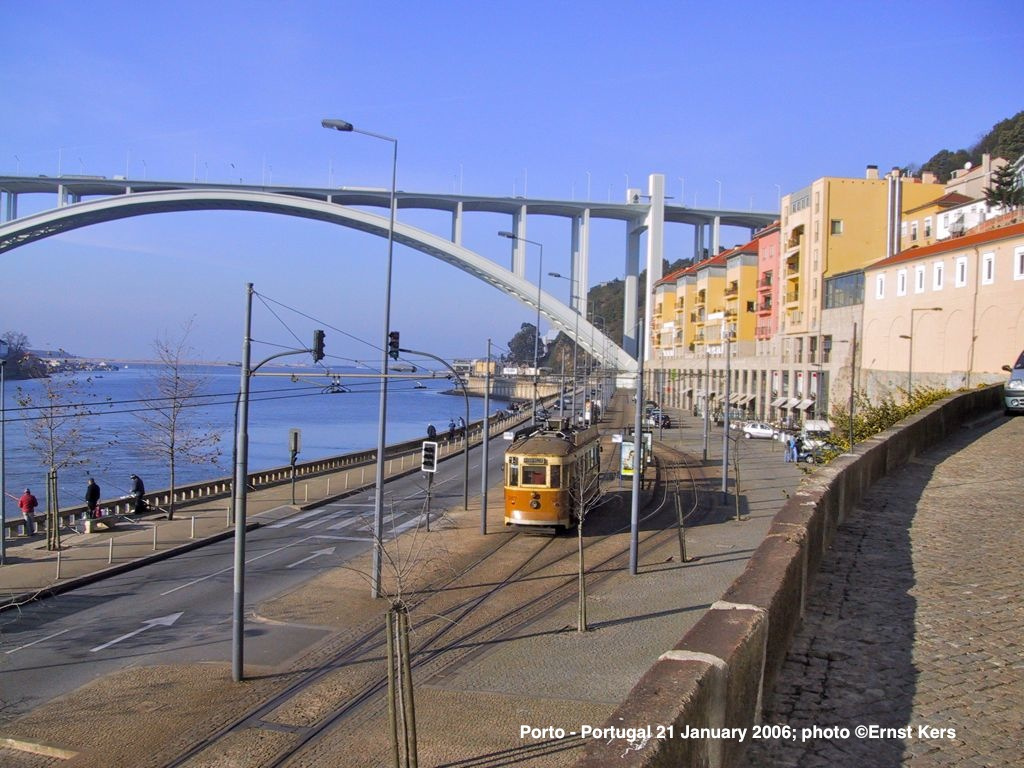arrabida: (0, 172, 780, 381)
